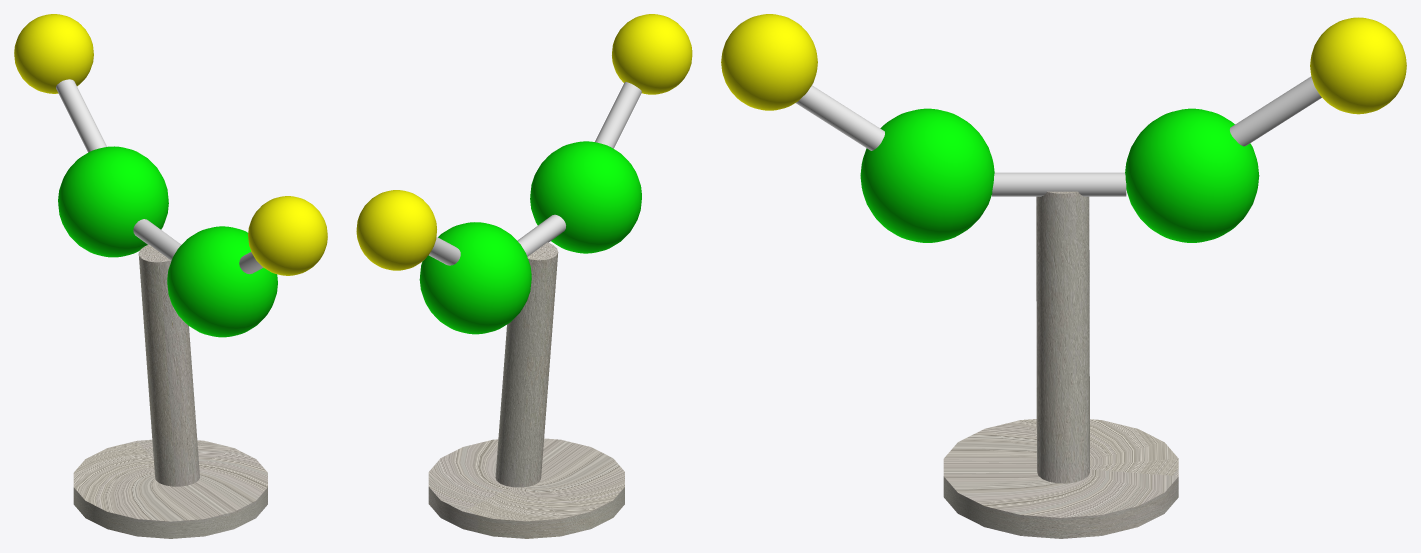
The model's file is H202 Model Display.FBX.
3 renders of one model, left to right at view 1: azimuth 30°, elevation 25°; view 2: azimuth 150°, elevation 25°; view 3: azimuth 270°, elevation 25°, orthographic. The views are drawn at different scales.
Parts seen in each view (by area): view 1: Cylinder007, Cylinder005, Sphere001, Sphere006, Sphere005, Sphere007, Cylinder003, Cylinder001; view 2: Cylinder007, Cylinder005, Sphere006, Sphere001, Sphere007, Sphere005, Cylinder002, Cylinder001, Cylinder003; view 3: Cylinder007, Cylinder005, Sphere006, Sphere001, Sphere007, Sphere005, Cylinder001, Cylinder003, Cylinder002.
Part boxes in pixels (x1,y1,x2,y2): Cylinder007: (73, 439, 267, 538); Cylinder005: (138, 244, 199, 486); Sphere001: (58, 146, 168, 257); Sphere006: (167, 226, 277, 337); Sphere005: (248, 196, 327, 275); Sphere007: (14, 14, 93, 93); Cylinder003: (56, 79, 106, 152); Cylinder001: (133, 219, 181, 260); Cylinder007: (428, 438, 624, 538); Cylinder005: (495, 242, 558, 487); Sphere006: (530, 141, 641, 253); Sphere001: (419, 222, 531, 334); Sphere007: (356, 190, 436, 270); Sphere005: (612, 14, 692, 94); Cylinder002: (595, 82, 641, 148); Cylinder001: (517, 214, 565, 256); Cylinder003: (429, 236, 460, 265); Cylinder007: (943, 419, 1178, 538); Cylinder005: (1036, 191, 1089, 483); Sphere006: (860, 108, 994, 242); Sphere001: (1125, 108, 1259, 242); Sphere007: (1310, 17, 1406, 114); Sphere005: (721, 14, 817, 110); Cylinder001: (992, 172, 1126, 196); Cylinder003: (1230, 76, 1321, 146); Cylinder002: (796, 85, 884, 150).
Size of the model in its own units: 1775 by 3856 by 5099.
3 materials, 3 textured.
